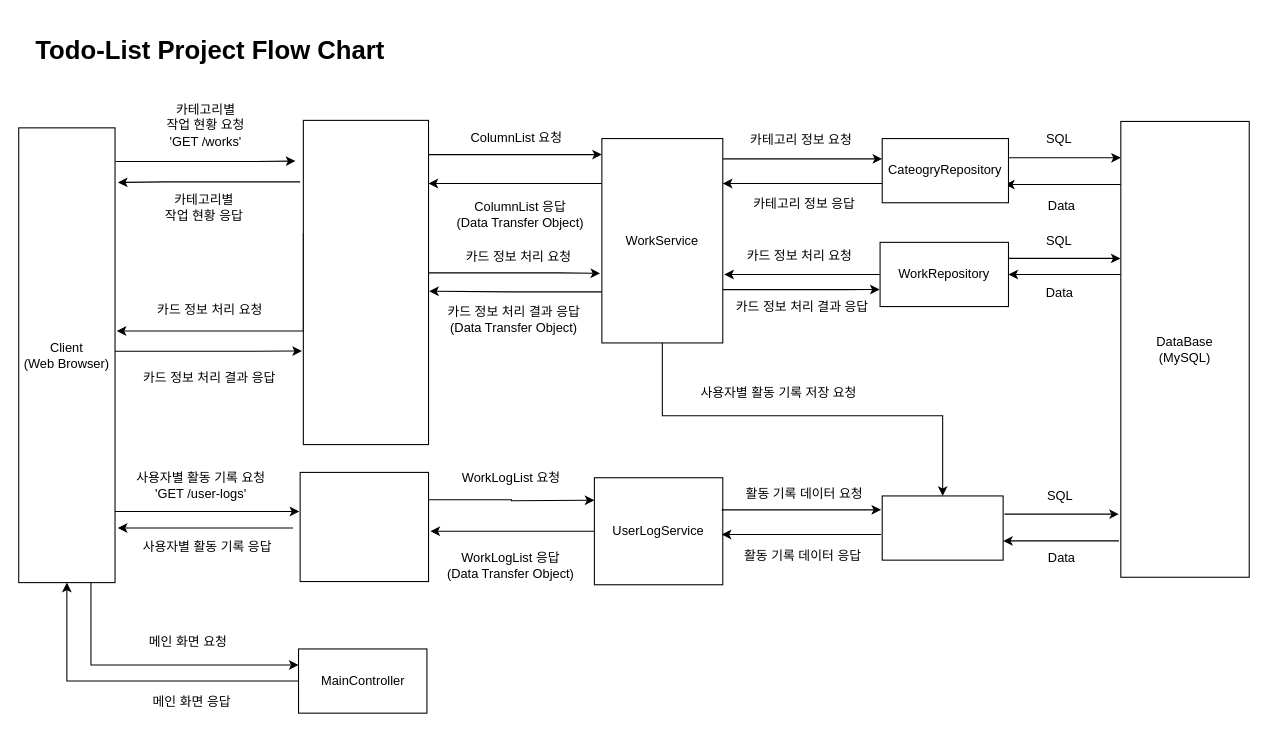
Some shapes in this 1268 by 736 pixel diagram are drawn without their labels. Each missing label, with the centre of its shape:
"UserLogController" belongs at (x=364, y=526).
"UserLogRepository" belongs at (x=942, y=527).
"WorkController" belongs at (x=365, y=282).
